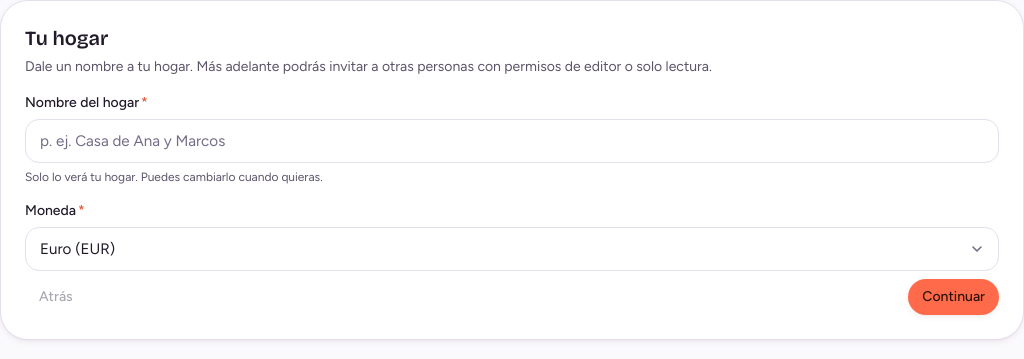
Test case: Onboarding · Hogar › no avanza si falta el nombre del hogar (validación)
The width and height of the screenshot is (1024, 359).
Click the button "Continuar". click: coordinates (954, 297)
box: [908, 279, 999, 315]
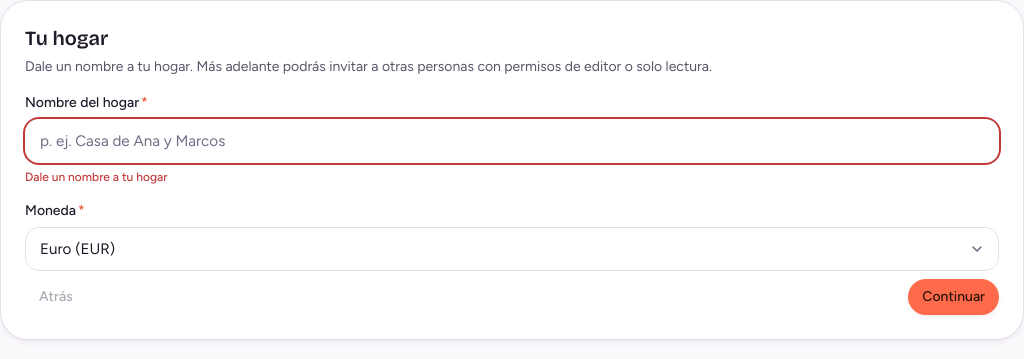
Result: the text "Dale un nombre a tu hogar" is shown at [25, 170, 167, 184]
